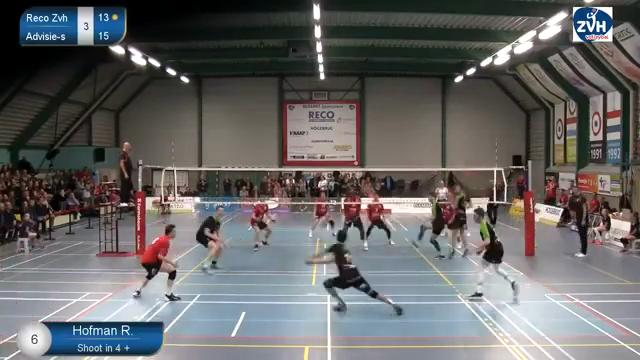ricezione: (299, 226, 407, 322)
